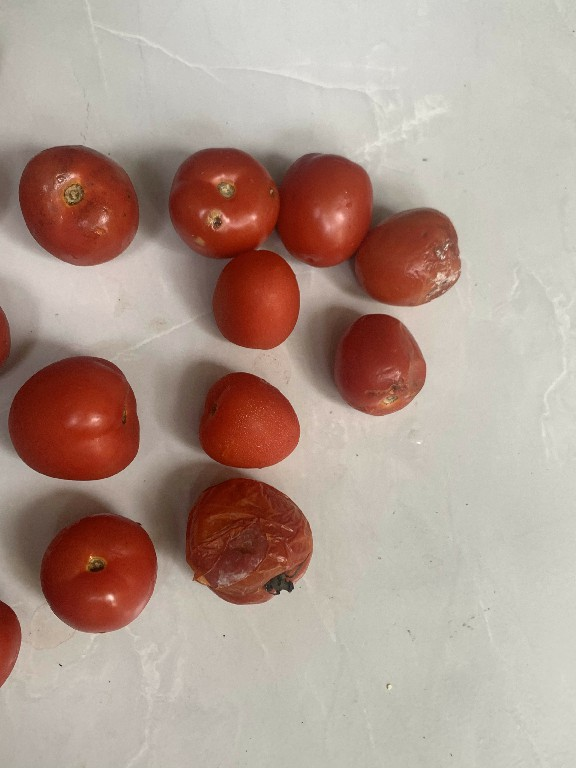NG: (179, 473, 310, 605), (157, 146, 276, 256), (348, 205, 468, 312), (333, 310, 430, 417)
OK: (0, 353, 149, 484), (12, 139, 145, 268), (30, 510, 162, 637), (279, 145, 369, 268), (200, 369, 305, 473), (205, 246, 304, 353)
